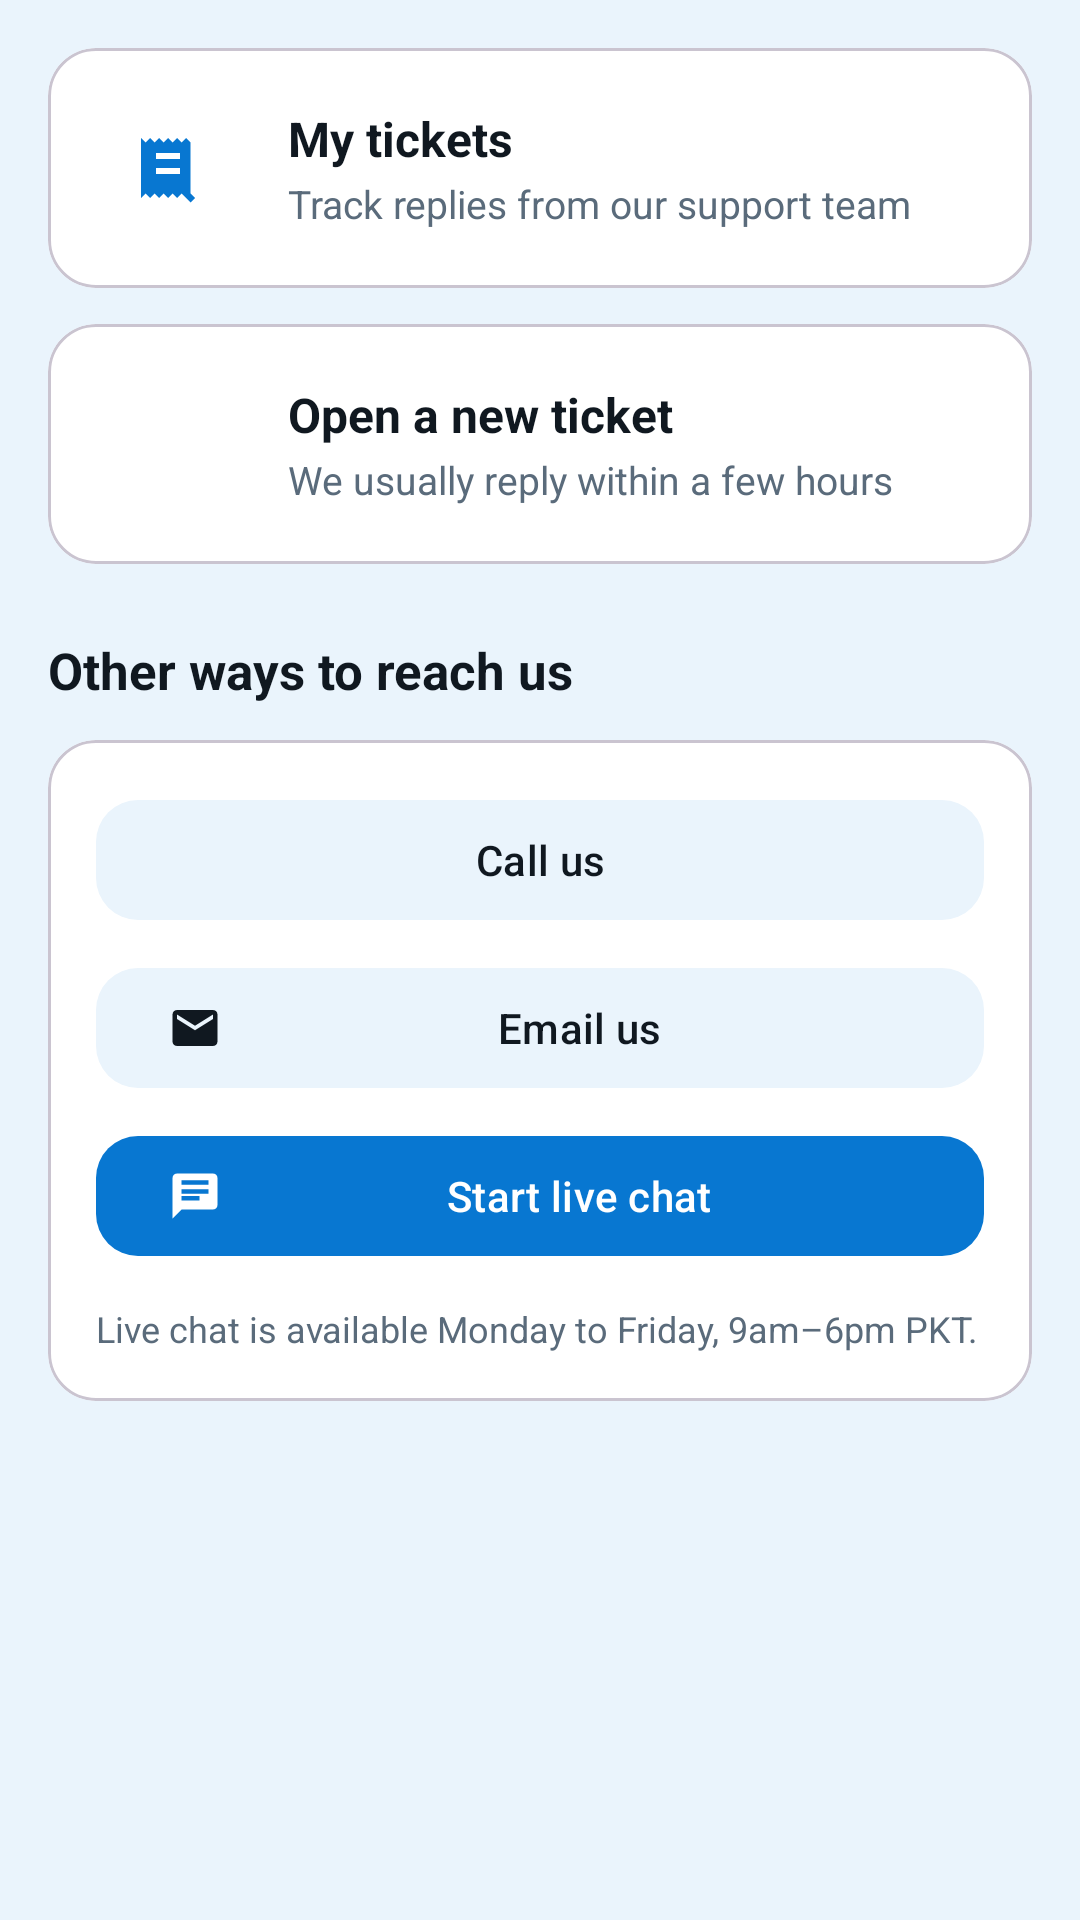

Icon bounding boxes for this 1080px x 1920px phone screenshot, format (x1, y1, x2, y2):
receipt long: (141, 138, 195, 203)
